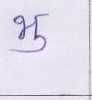u_matra: (7, 36, 51, 54)
